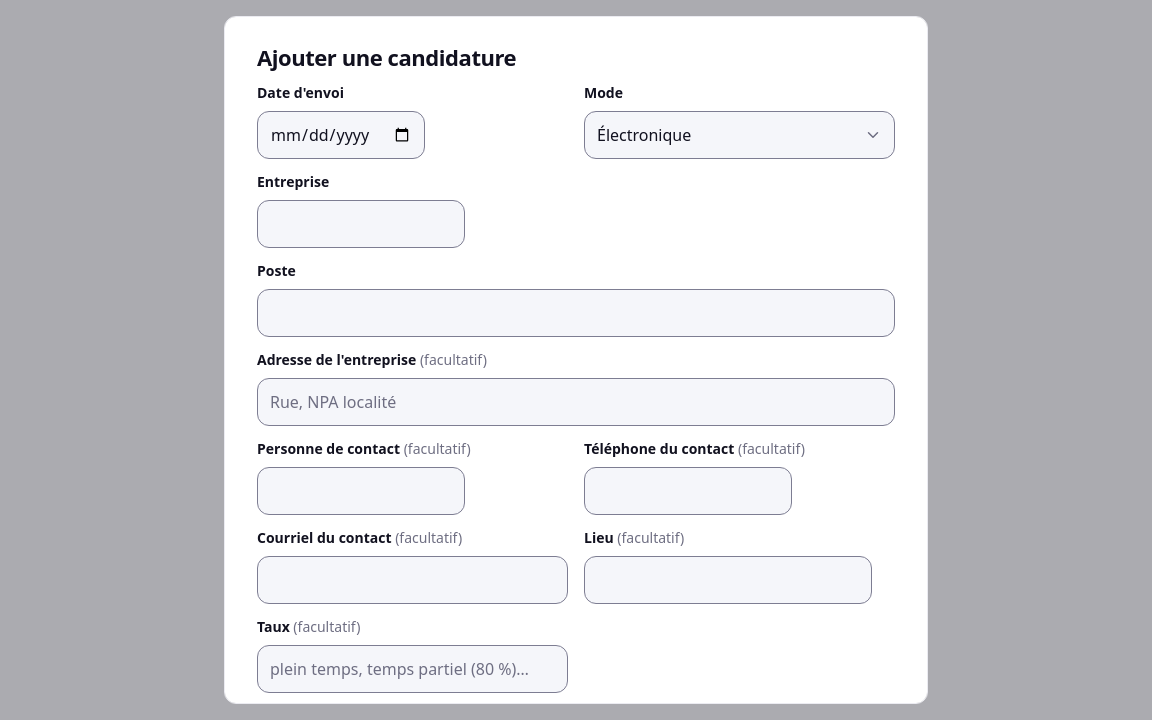
Scenario: ApplicationForm (règles §4, Champ de formulaire et Formulaire) › à l'envoi : une erreur sous chaque champ manquant, le curseur dans le premier, rien d'envoyé
The image size is (1152, 720).
Step 1. Type "Beta Sàrl" into the field with test id "company" → (361, 224), box [257,200,465,248]
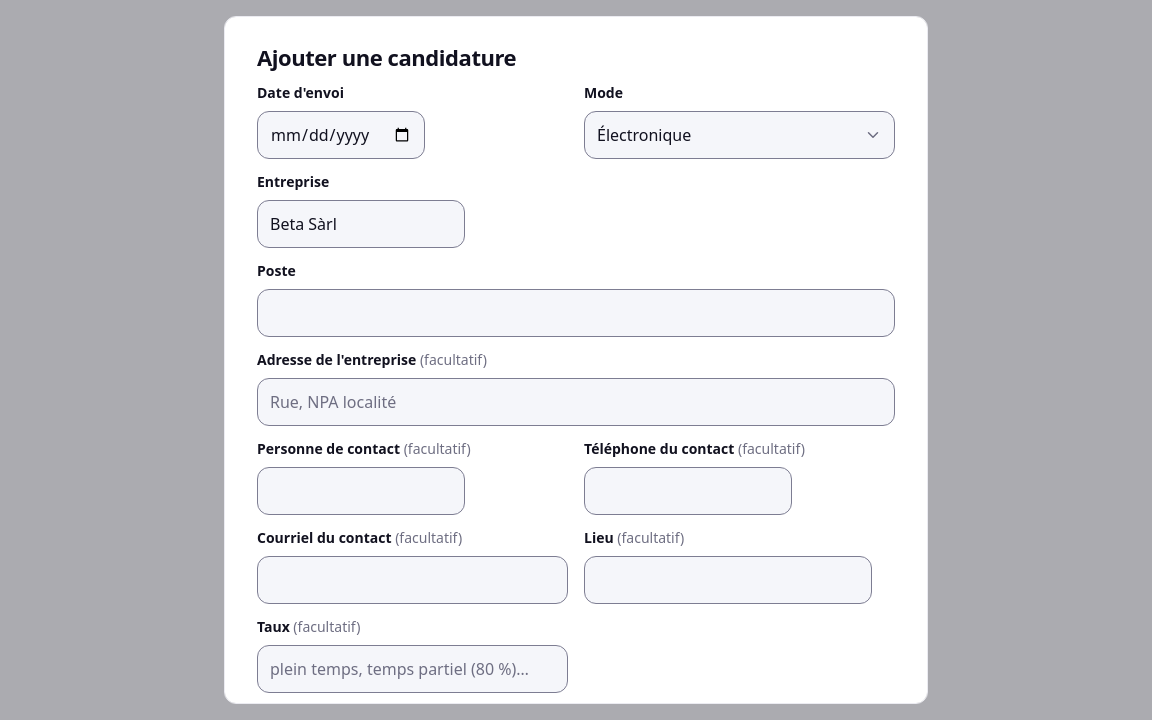
Step 2. Submit the form, box [224,16,928,704]
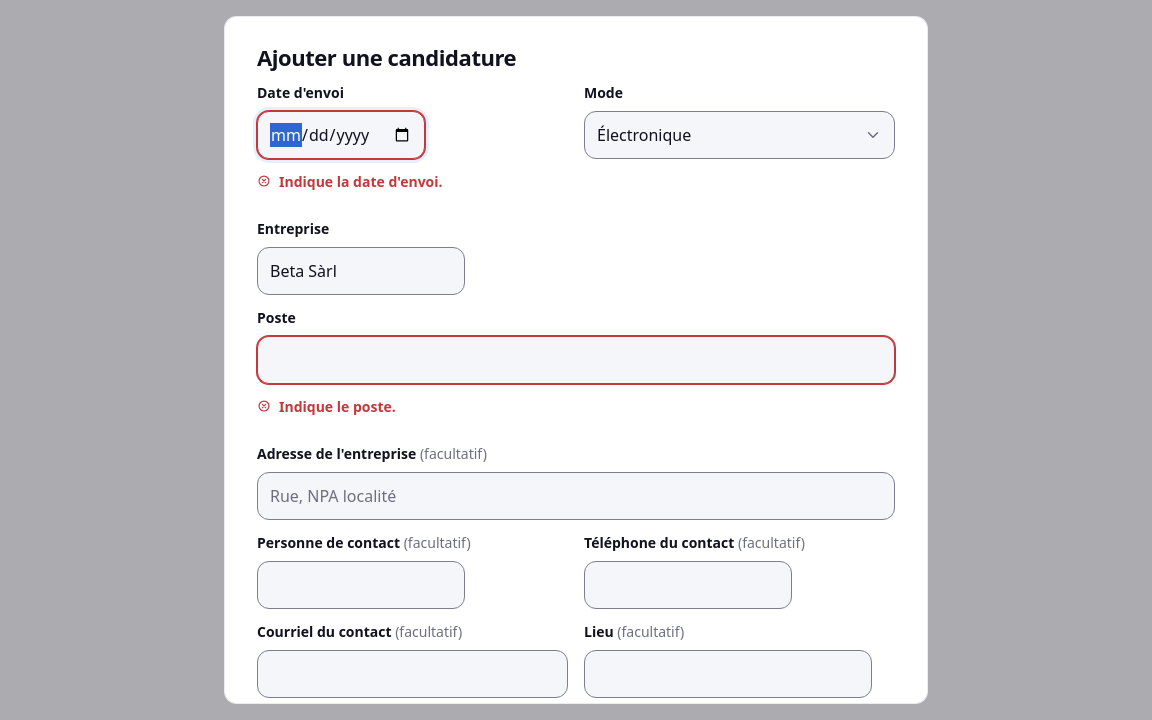
Now the elements with test id "field-error" read "Indique la date d'envoi.", "Indique le poste.", in this order, box [279,172,442,191]; [279,397,396,416]
